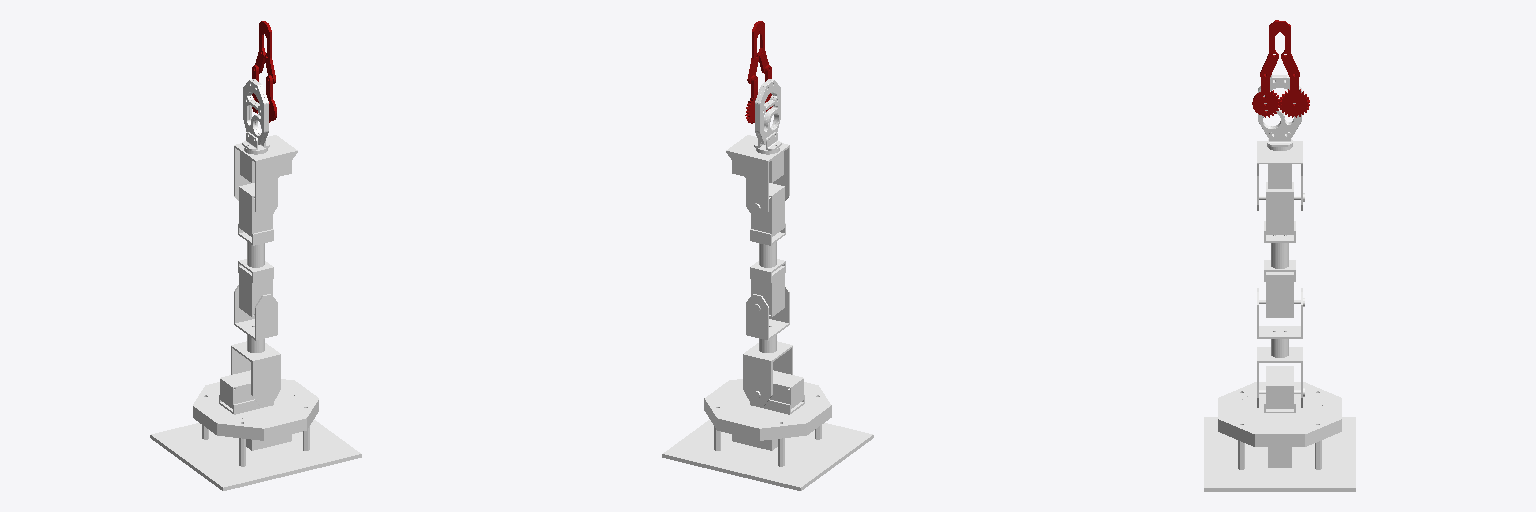
The robot description file, URDF, robot "robot_arm_v2":
<?xml version="1.0" encoding="utf-8"?>
<!-- This URDF was automatically created by SolidWorks to URDF Exporter! Originally created by [author] ([email redacted]) 
     Commit Version: 1.5.0-0-g9aa0fdb  Build Version: 1.5.7004.21443
     For more information, please see http://wiki.ros.org/sw_urdf_exporter -->
<robot
  name="robot_arm_v2">
  <link
    name="base_link">
    <inertial>
      <origin
        xyz="0.0015249 -5.46E-17 0.020206"
        rpy="0 0 0" />
      <mass
        value="0.18853" />
      <inertia
        ixx="0.00023778"
        ixy="-4.661E-20"
        ixz="1.6149E-23"
        iyy="0.00027035"
        iyz="-6.5608E-22"
        izz="0.00050254" />
    </inertial>
    <visual>
      <origin
        xyz="0 0 0"
        rpy="0 0 0" />
      <geometry>
        <mesh
          filename="package://robot_arm_v2/meshes/base_link.STL" />
      </geometry>
      <material
        name="">
        <color
          rgba="1 1 1 1" />
      </material>
    </visual>
    <collision>
      <origin
        xyz="0 0 0"
        rpy="0 0 0" />
      <geometry>
        <mesh
          filename="package://robot_arm_v2/meshes/base_link.STL" />
      </geometry>
    </collision>
  </link>
  <link
    name="link1">
    <inertial>
      <origin
        xyz="-0.0034892 -9.3788E-18 7.9309E-05"
        rpy="0 0 0" />
      <mass
        value="0.095317" />
      <inertia
        ixx="3.0197E-05"
        ixy="-9.5098E-21"
        ixz="-5.447E-10"
        iyy="3.3082E-05"
        iyz="9.5446E-23"
        izz="5.8999E-05" />
    </inertial>
    <visual>
      <origin
        xyz="0 0 0"
        rpy="0 0 0" />
      <geometry>
        <mesh
          filename="package://robot_arm_v2/meshes/link1.STL" />
      </geometry>
      <material
        name="">
        <color
          rgba="1 1 1 1" />
      </material>
    </visual>
    <collision>
      <origin
        xyz="0 0 0"
        rpy="0 0 0" />
      <geometry>
        <mesh
          filename="package://robot_arm_v2/meshes/link1.STL" />
      </geometry>
    </collision>
  </link>
  <joint
    name="joint1"
    type="revolute">
    <origin
      xyz="0 0 0.049"
      rpy="0 0 0" />
    <parent
      link="base_link" />
    <child
      link="link1" />
    <axis
      xyz="0 0 1" />
    <limit
      lower="-3.1416"
      upper="3.1416"
      effort="100"
      velocity="1" />
    <safety_controller
      soft_upper_limit="3.1416"
      soft_lower_limit="-3.1416"
      k_position="100"
      k_velocity="1" />
  </joint>
  <link
    name="link2">
    <inertial>
      <origin
        xyz="0.04527 3.671E-16 -0.00021556"
        rpy="0 0 0" />
      <mass
        value="0.02052" />
      <inertia
        ixx="5.9677E-06"
        ixy="-6.5483E-21"
        ixz="1.1567E-21"
        iyy="8.3102E-06"
        iyz="6.7163E-21"
        izz="4.4726E-06" />
    </inertial>
    <visual>
      <origin
        xyz="0 0 0"
        rpy="0 0 0" />
      <geometry>
        <mesh
          filename="package://robot_arm_v2/meshes/link2.STL" />
      </geometry>
      <material
        name="">
        <color
          rgba="1 1 1 1" />
      </material>
    </visual>
    <collision>
      <origin
        xyz="0 0 0"
        rpy="0 0 0" />
      <geometry>
        <mesh
          filename="package://robot_arm_v2/meshes/link2.STL" />
      </geometry>
    </collision>
  </link>
  <joint
    name="joint2"
    type="revolute">
    <origin
      xyz="0 0 0.0165"
      rpy="1.5708 -1.5708 0" />
    <parent
      link="link1" />
    <child
      link="link2" />
    <axis
      xyz="0 0 1" />
    <limit
      lower="-1.5708"
      upper="0.7854"
      effort="100"
      velocity="1" />
    <safety_controller
      soft_upper_limit="0.7854"
      soft_lower_limit="-1.5708"
      k_position="100"
      k_velocity="1" />
  </joint>
  <link
    name="link3">
    <inertial>
      <origin
        xyz="0.0532374635086251 1.8450338353018E-14 -3.47517393596546E-17"
        rpy="0 0 0" />
      <mass
        value="0.0627039027159731" />
      <inertia
        ixx="6.19727654838919E-06"
        ixy="-4.50885830202563E-18"
        ixz="3.93121945280416E-22"
        iyy="1.23834756064477E-05"
        iyz="-4.64005927889728E-22"
        izz="1.14142755721138E-05" />
    </inertial>
    <visual>
      <origin
        xyz="0 0 0"
        rpy="0 0 0" />
      <geometry>
        <mesh
          filename="package://robot_arm_v2/meshes/link3.STL" />
      </geometry>
      <material
        name="">
        <color
          rgba="1 1 1 1" />
      </material>
    </visual>
    <collision>
      <origin
        xyz="0 0 0"
        rpy="0 0 0" />
      <geometry>
        <mesh
          filename="package://robot_arm_v2/meshes/link3.STL" />
      </geometry>
    </collision>
  </link>
  <joint
    name="joint3"
    type="revolute">
    <origin
      xyz="0.092 0 0"
      rpy="0 0 0" />
    <parent
      link="link2" />
    <child
      link="link3" />
    <axis
      xyz="0 0 -1" />
    <limit
      lower="-2.3562"
      upper="2.3562"
      effort="100"
      velocity="1" />
    <safety_controller
      soft_upper_limit="2.3562"
      soft_lower_limit="-2.3562"
      k_position="100"
      k_velocity="1" />
  </joint>
  <link
    name="link4">
    <inertial>
      <origin
        xyz="0.035442 -0.0094246 -5.944E-05"
        rpy="0 0 0" />
      <mass
        value="0.037209" />
      <inertia
        ixx="1.026E-05"
        ixy="9.3263E-07"
        ixz="-1.279E-21"
        iyy="9.9908E-06"
        iyz="1.4246E-21"
        izz="1.1114E-05" />
    </inertial>
    <visual>
      <origin
        xyz="0 0 0"
        rpy="0 0 0" />
      <geometry>
        <mesh
          filename="package://robot_arm_v2/meshes/link4.STL" />
      </geometry>
      <material
        name="">
        <color
          rgba="1 1 1 1" />
      </material>
    </visual>
    <collision>
      <origin
        xyz="0 0 0"
        rpy="0 0 0" />
      <geometry>
        <mesh
          filename="package://robot_arm_v2/meshes/link4.STL" />
      </geometry>
    </collision>
  </link>
  <joint
    name="joint4"
    type="revolute">
    <origin
      xyz="0.107 0 0"
      rpy="0 0 0" />
    <parent
      link="link3" />
    <child
      link="link4" />
    <axis
      xyz="0 0 1" />
    <limit
      lower="-1.5708"
      upper="2.3562"
      effort="100"
      velocity="1" />
    <safety_controller
      soft_upper_limit="2.3562"
      soft_lower_limit="-1.5708"
      k_position="100"
      k_velocity="1" />
  </joint>
  <link
    name="link5">
    <inertial>
      <origin
        xyz="-1.1868E-10 0.00036037 0.027185"
        rpy="0 0 0" />
      <mass
        value="0.011365" />
      <inertia
        ixx="4.1255E-06"
        ixy="1.6777E-14"
        ixz="-6.6763E-15"
        iyy="2.831E-06"
        iyz="8.0189E-08"
        izz="1.4401E-06" />
    </inertial>
    <visual>
      <origin
        xyz="0 0 0"
        rpy="0 0 0" />
      <geometry>
        <mesh
          filename="package://robot_arm_v2/meshes/link5.STL" />
      </geometry>
      <material
        name="">
        <color
          rgba="1 1 1 1" />
      </material>
    </visual>
    <collision>
      <origin
        xyz="0 0 0"
        rpy="0 0 0" />
      <geometry>
        <mesh
          filename="package://robot_arm_v2/meshes/link5.STL" />
      </geometry>
    </collision>
  </link>
  <joint
    name="joint5"
    type="revolute">
    <origin
      xyz="0.057 0 0"
      rpy="-1.5708 0 -1.5708" />
    <parent
      link="link4" />
    <child
      link="link5" />
    <axis
      xyz="0 0 -1" />
    <limit
      lower="-3.1416"
      upper="3.1416"
      effort="100"
      velocity="1" />
    <safety_controller
      soft_upper_limit="3.1416"
      soft_lower_limit="-3.1416"
      k_position="100"
      k_velocity="1" />
  </joint>
  <link
    name="link6_1">
    <inertial>
      <origin
        xyz="0.026516 -0.0026273 0.0027787"
        rpy="0 0 0" />
      <mass
        value="0.0034213" />
      <inertia
        ixx="8.963E-08"
        ixy="5.6331E-08"
        ixz="6.9641E-24"
        iyy="7.2791E-07"
        iyz="3.4937E-23"
        izz="8.1241E-07" />
    </inertial>
    <visual>
      <origin
        xyz="0 0 0"
        rpy="0 0 0" />
      <geometry>
        <mesh
          filename="package://robot_arm_v2/meshes/link6_1.STL" />
      </geometry>
      <material
        name="">
        <color
          rgba="0.69412 0.094118 0.094118 1" />
      </material>
    </visual>
    <collision>
      <origin
        xyz="0 0 0"
        rpy="0 0 0" />
      <geometry>
        <mesh
          filename="package://robot_arm_v2/meshes/link6_1.STL" />
      </geometry>
    </collision>
  </link>
  <joint
    name="joint6_1"
    type="revolute">
    <origin
      xyz="0.006 -0.0135 0.042879"
      rpy="3.1416 -1.5708 0" />
    <parent
      link="link5" />
    <child
      link="link6_1" />
    <axis
      xyz="0 0 1" />
    <limit
      lower="0"
      upper="3.1416"
      effort="100"
      velocity="1" />
    <safety_controller
      soft_upper_limit="3.1416"
      soft_lower_limit="0"
      k_position="100"
      k_velocity="1" />
  </joint>
  <link
    name="link6_2">
    <inertial>
      <origin
        xyz="0.025236 0.0021767 0.0028039"
        rpy="0 0 0" />
      <mass
        value="0.003593" />
      <inertia
        ixx="1.031E-07"
        ixy="-6.3254E-08"
        ixz="1.9424E-23"
        iyy="7.4607E-07"
        iyz="8.0135E-23"
        izz="8.4379E-07" />
    </inertial>
    <visual>
      <origin
        xyz="0 0 0"
        rpy="0 0 0" />
      <geometry>
        <mesh
          filename="package://robot_arm_v2/meshes/link6_2.STL" />
      </geometry>
      <material
        name="">
        <color
          rgba="0.69412 0.094118 0.094118 1" />
      </material>
    </visual>
    <collision>
      <origin
        xyz="0 0 0"
        rpy="0 0 0" />
      <geometry>
        <mesh
          filename="package://robot_arm_v2/meshes/link6_2.STL" />
      </geometry>
    </collision>
  </link>
  <joint
    name="joint6_2"
    type="revolute">
    <origin
      xyz="0.006 0.0135 0.042879"
      rpy="3.1416 -1.5708 0" />
    <parent
      link="link5" />
    <child
      link="link6_2" />
    <axis
      xyz="0 0 -1" />
    <limit
      lower="0"
      upper="3.1416"
      effort="100"
      velocity="1" />
    <safety_controller
      soft_upper_limit="3.1416"
      soft_lower_limit="0"
      k_position="100"
      k_velocity="1" />
  </joint>
</robot>

--- Facts derived from the render (not from the file) ---
The picture shows the robot from 3 angles, left to right: view 1: azimuth 30°, elevation 25°; view 2: azimuth 150°, elevation 25°; view 3: azimuth 270°, elevation 25°; orthographic projection.
Robot: robot_arm_v2 — 8 links, 7 joints (7 revolute); root link base_link; default pose: every joint at zero.
Links seen in each view (by area): view 1: base_link, link2, link3, link4, link1, link5, link6_1; view 2: base_link, link2, link3, link4, link1, link5, link6_2; view 3: base_link, link3, link1, link2, link4, link6_2, link5, link6_1.
Boxes of the visible links, <box> form: base_link: <box>150,379,361,490</box>; link2: <box>231,285,280,407</box>; link3: <box>238,183,273,317</box>; link4: <box>234,135,297,218</box>; link1: <box>215,370,296,418</box>; link5: <box>242,79,269,154</box>; link6_1: <box>264,23,276,122</box>; base_link: <box>662,379,873,490</box>; link2: <box>743,285,792,407</box>; link3: <box>750,183,785,317</box>; link4: <box>726,135,789,218</box>; link1: <box>727,370,808,418</box>; link5: <box>754,79,781,154</box>; link6_2: <box>745,22,759,123</box>; base_link: <box>1204,382,1355,491</box>; link3: <box>1264,182,1295,317</box>; link1: <box>1237,366,1322,426</box>; link2: <box>1257,288,1304,407</box>; link4: <box>1257,141,1304,210</box>; link6_2: <box>1279,21,1309,117</box>; link5: <box>1258,75,1301,150</box>; link6_1: <box>1252,20,1280,117</box>.
Bounding box of the posed robot: 0.154 × 0.14 × 0.4498 m (x, y, z).
8 mesh visuals loaded from 8 distinct referenced files (8 binary STL).